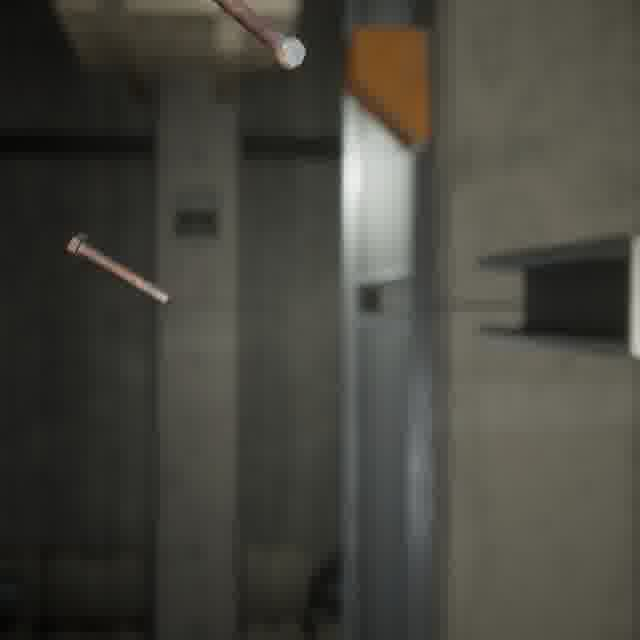bolt: (62, 228, 177, 310), (207, 0, 310, 74)
